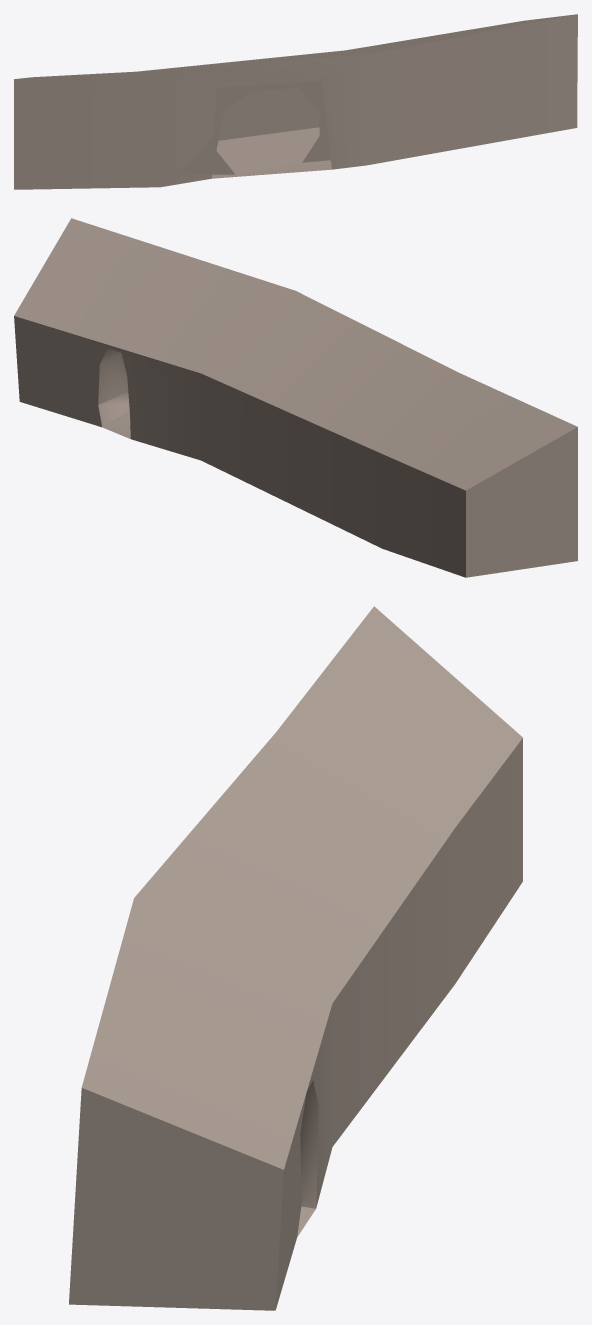
The model's file is Building_Wall_1.fbx.
3 renders of one model, top to bottom at view 1: azimuth 30°, elevation 25°; view 2: azimuth 150°, elevation 25°; view 3: azimuth 270°, elevation 25°, orthographic. The views are drawn at different scales.
Parts seen in each view (by area): view 1: pCube22; view 2: pCube22; view 3: pCube22.
Boxes of the visible parts, x1,y1,x2,y2 form: pCube22: (14,14,577,189); pCube22: (14,218,577,577); pCube22: (69,606,522,1310).
Bounding box in the file's own units: 24.11 × 5.63 × 9.66.
